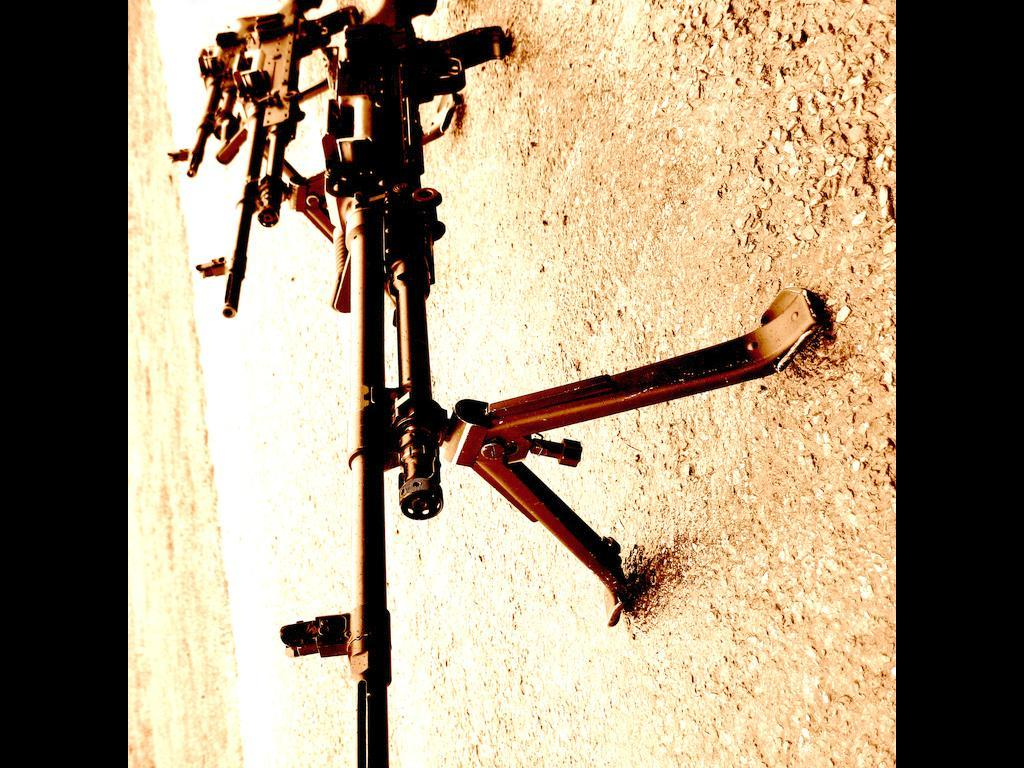gun: (322, 0, 832, 768), (216, 0, 330, 318)
